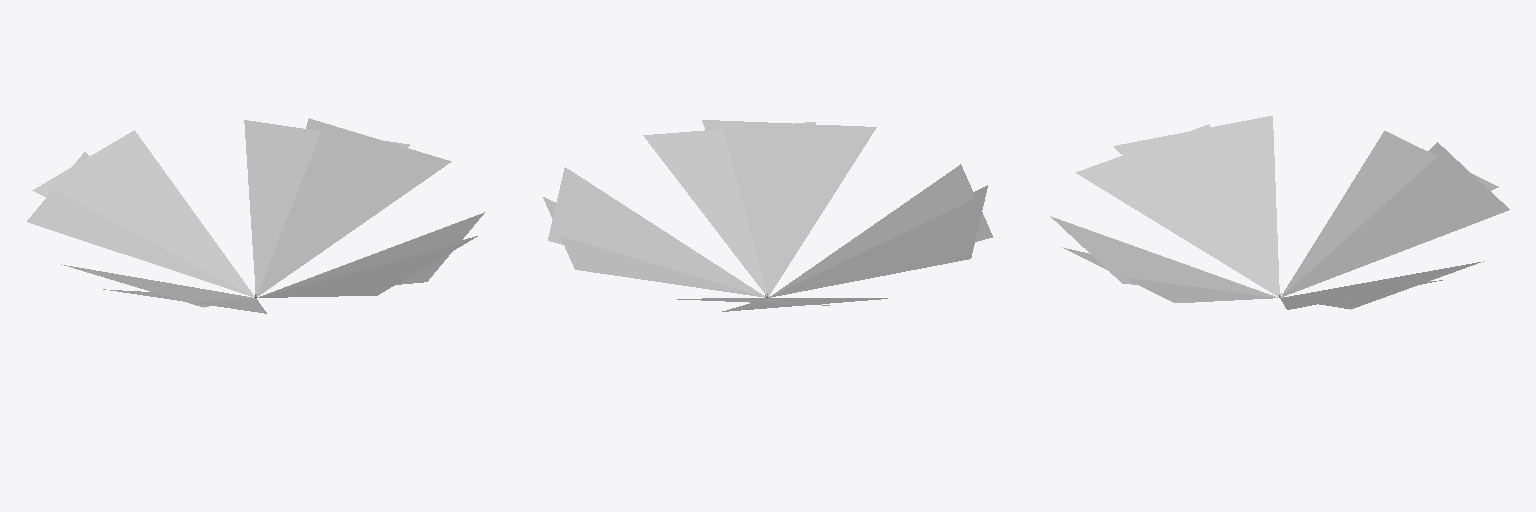
File: pika.obj
3 views of the same model, side by side, from view 1: azimuth 30°, elevation 25°; view 2: azimuth 150°, elevation 25°; view 3: azimuth 270°, elevation 25° (orthographic).
Parts seen in each view (by area): view 1: pokeball_11BB7AD6_0_033, pokeball_11BB7AD6_0_035, pokeball_11BB7AD6_0_034; view 2: pokeball_11BB7AD6_0_033, pokeball_11BB7AD6_0_034, pokeball_11BB7AD6_0_035; view 3: pokeball_11BB7AD6_0_033, pokeball_11BB7AD6_0_034, pokeball_11BB7AD6_0_035.
Boxes of the visible parts, box(x1,y1,x2,y2) form: pokeball_11BB7AD6_0_033: box(32, 118, 477, 307); pokeball_11BB7AD6_0_035: box(27, 152, 484, 296); pokeball_11BB7AD6_0_034: box(103, 120, 409, 313); pokeball_11BB7AD6_0_033: box(548, 120, 987, 305); pokeball_11BB7AD6_0_034: box(543, 164, 992, 297); pokeball_11BB7AD6_0_035: box(643, 122, 887, 311); pokeball_11BB7AD6_0_033: box(1050, 116, 1509, 309); pokeball_11BB7AD6_0_034: box(1076, 124, 1483, 309); pokeball_11BB7AD6_0_035: box(1062, 131, 1498, 302).
Size of the model in its own units: 39.3 by 8.11 by 39.3.